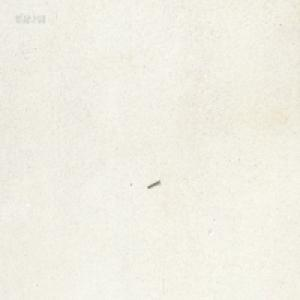Bolt: (146, 178, 160, 188)
